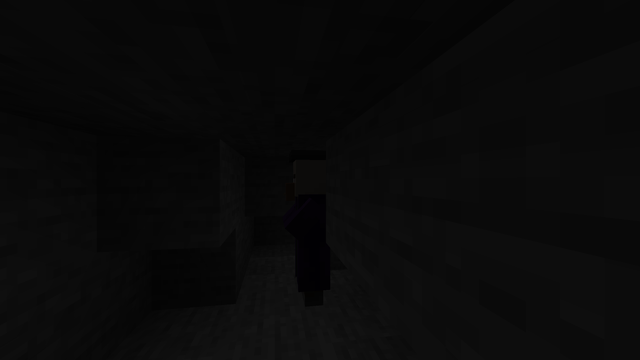sorcieres: (288, 153, 337, 310)
